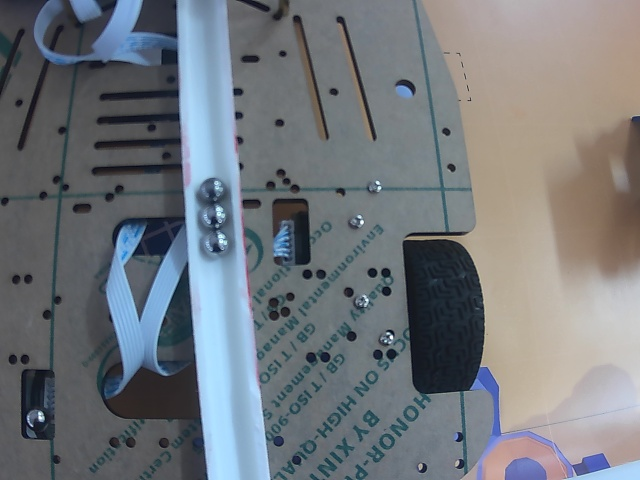steelball: (202, 230, 227, 257), (200, 204, 225, 228), (200, 177, 224, 200)
